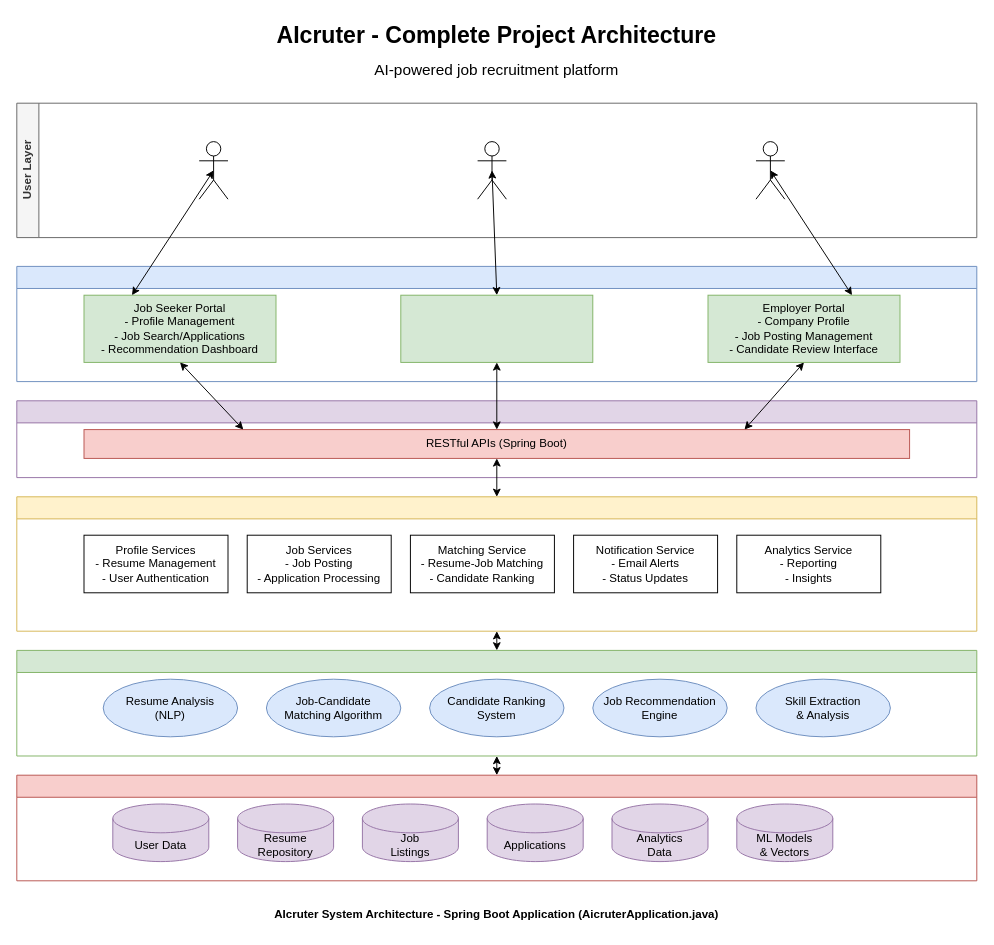
This 994x945 diagram has some shape labels left out. The box of each missing label's shape, as (x1, y1, x2, y2) in pixels:
Admin Dashboard - System Monitoring - User Management - Analytics: (400, 294, 593, 362)
Administrators: (477, 141, 506, 199)
AI Layer: (16, 649, 977, 756)
API Layer: (16, 400, 977, 478)
Data Layer: (16, 774, 977, 881)
Employers: (755, 141, 785, 199)
Frontend Layer: (16, 265, 977, 382)
Job Seekers: (198, 141, 228, 199)
Service Layer: (16, 496, 977, 631)
